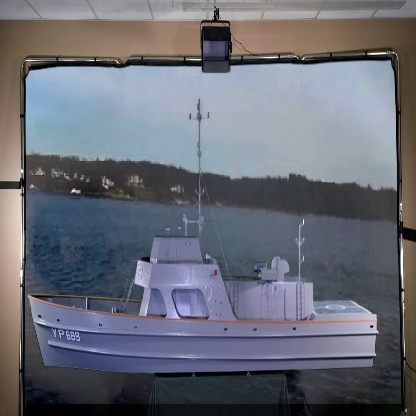YP689: (25, 75, 381, 376)
